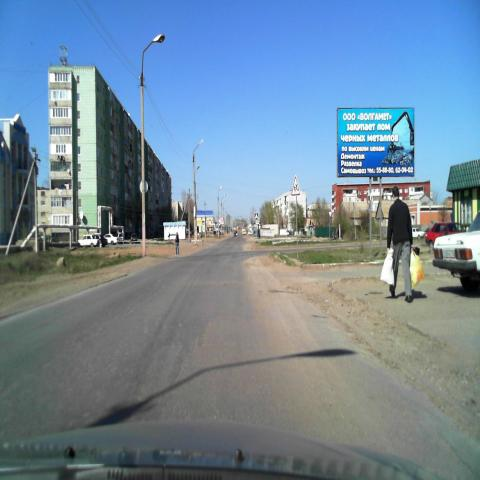1_23: (290, 176, 302, 198)
